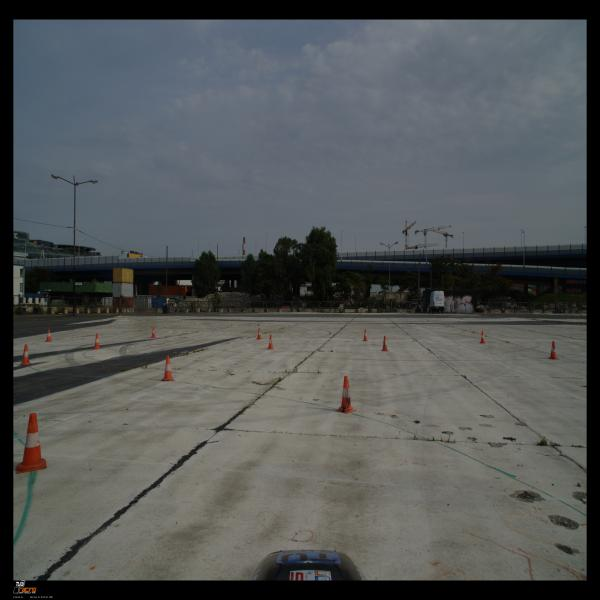orange_cone: (15, 412, 47, 474), (335, 376, 357, 413), (160, 355, 176, 381), (18, 344, 33, 366), (547, 341, 560, 360), (93, 334, 101, 350), (478, 330, 487, 344), (44, 328, 52, 342), (382, 336, 389, 352), (267, 334, 274, 349), (150, 326, 157, 338), (362, 329, 369, 341), (256, 328, 262, 339)
